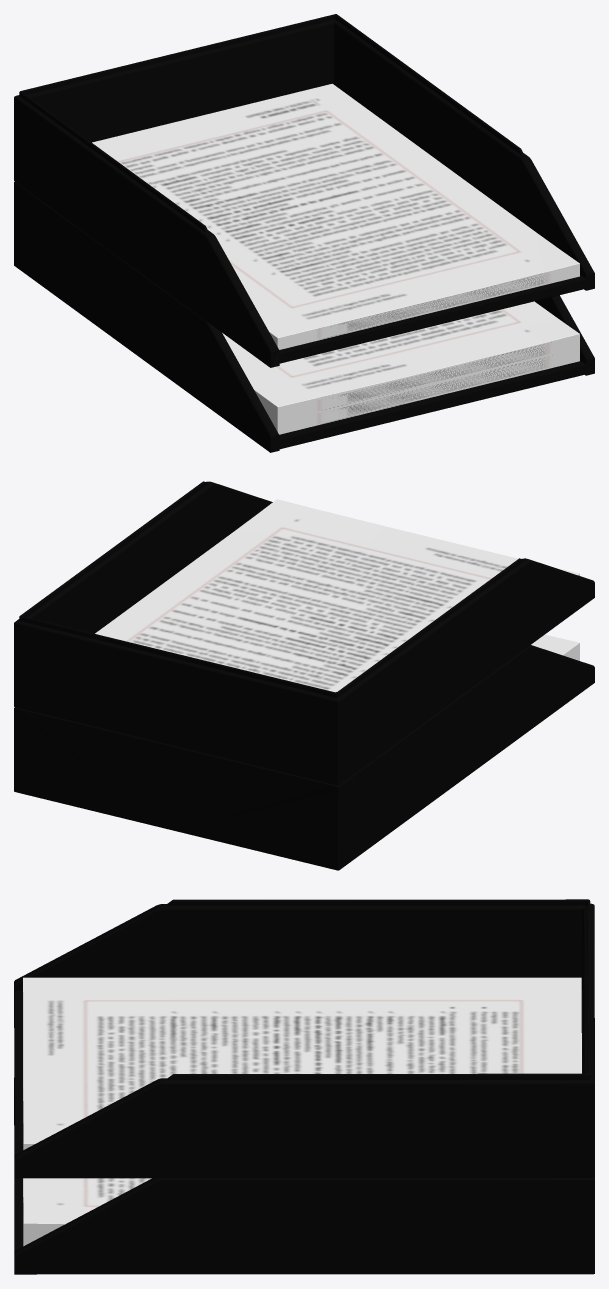
The picture shows the model from 3 angles, top to bottom: view 1: azimuth 30°, elevation 25°; view 2: azimuth 150°, elevation 25°; view 3: azimuth 270°, elevation 25°; orthographic projection. The views are drawn at different scales.
Visible parts, largest first — view 1: file; view 2: file; view 3: file.
Part boxes in pixels (bbox=[...]): file: bbox=[14, 14, 594, 452]; file: bbox=[14, 481, 594, 870]; file: bbox=[14, 899, 594, 1274].
Size of the model in its own units: 226 by 116 by 309.
2 materials, 1 textured.
